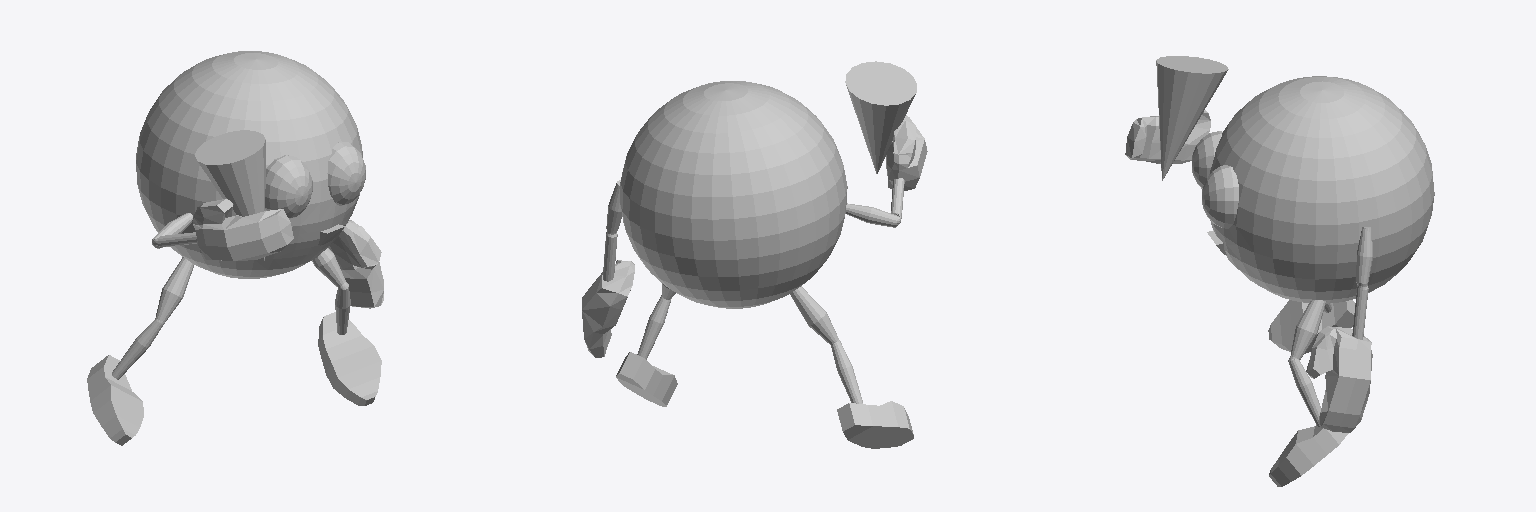
The model's file is stepLeft_000029.obj.
The picture shows the model from 3 angles: view 1: azimuth 30°, elevation 25°; view 2: azimuth 150°, elevation 25°; view 3: azimuth 270°, elevation 25°; orthographic projection.
Parts seen in each view (by area): view 1: Rusko_Sphere; view 2: Rusko_Sphere; view 3: Rusko_Sphere.
Part boxes in pixels (x1,y1,x2,y2): Rusko_Sphere: (87, 51, 383, 445); Rusko_Sphere: (582, 61, 927, 448); Rusko_Sphere: (1125, 56, 1434, 486).
Size of the model in its own units: 6.16 by 6.8 by 5.42.